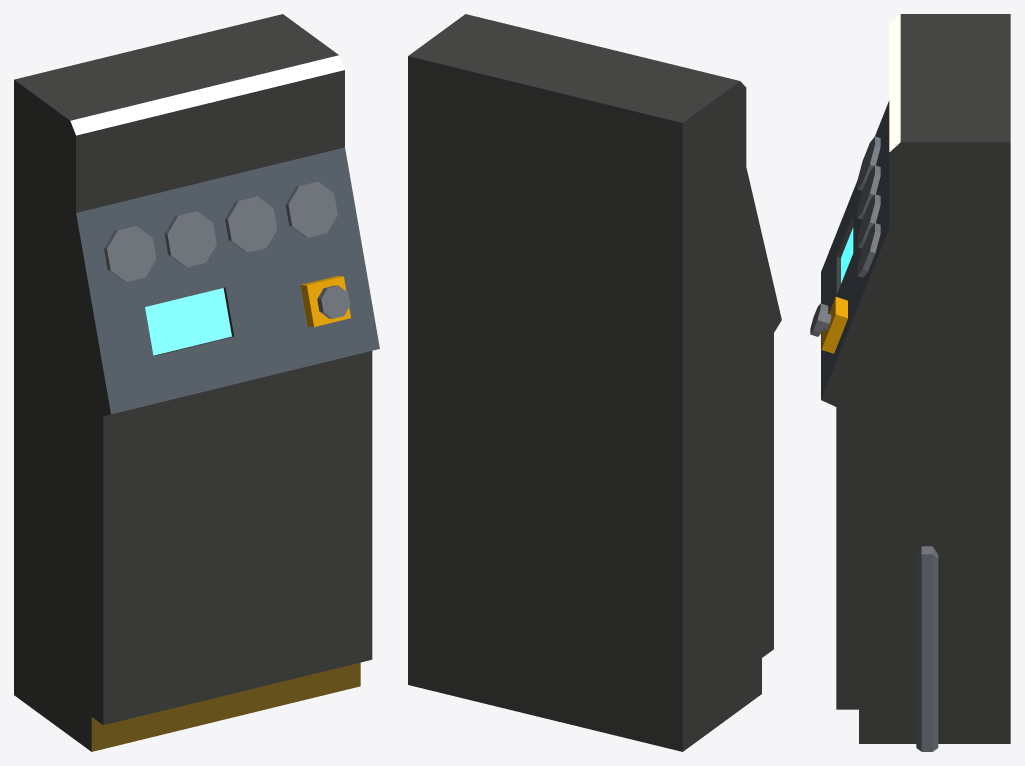
The model's file is local_panel.glb.
The picture shows the model from 3 angles, left to right: view 1: azimuth 30°, elevation 25°; view 2: azimuth 150°, elevation 25°; view 3: azimuth 270°, elevation 25°; orthographic projection. The views are drawn at different scales.
Parts seen in each view (by area): view 1: local_panel; view 2: local_panel; view 3: local_panel.
Part boxes in pixels (x1,y1,x2,y2): local_panel: (14, 14, 379, 751); local_panel: (408, 14, 781, 751); local_panel: (810, 14, 1010, 751).
Size of the model in its own units: 0.85 by 1.75 by 0.5286.
